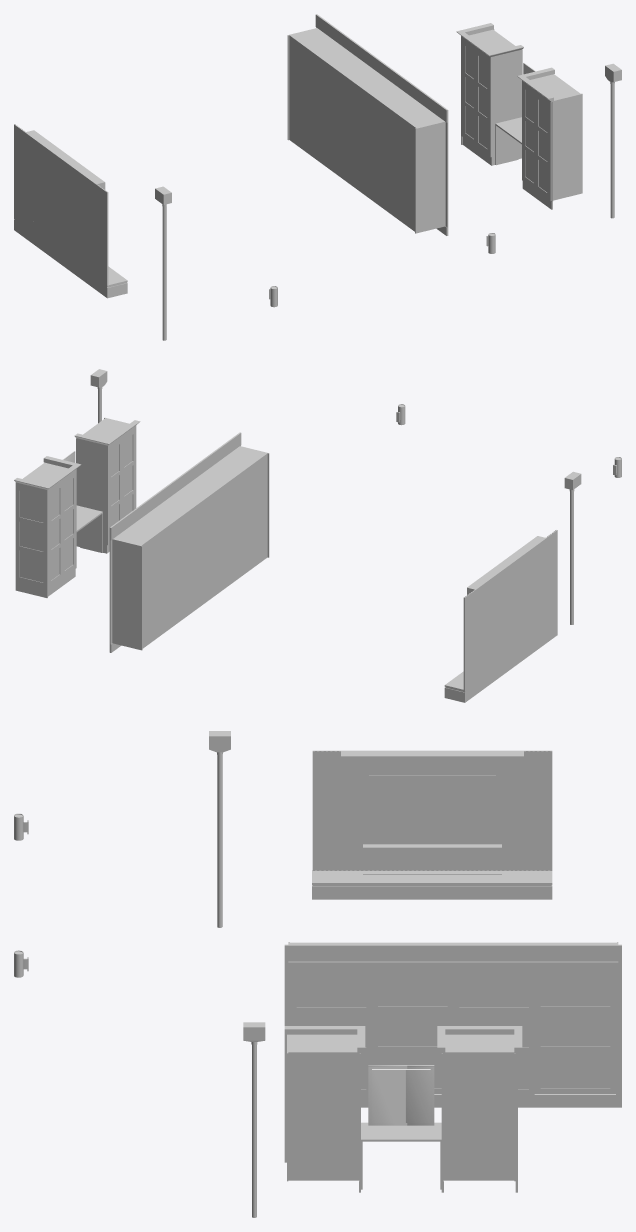
File: PS01__TrueVision__MainBuildingModel__ProposedFixtures__MeshModel__.glb
3 renders of one model, top to bottom at view 1: azimuth 30°, elevation 25°; view 2: azimuth 150°, elevation 25°; view 3: azimuth 270°, elevation 25°, orthographic. The views are drawn at different scales.
Parts seen in each view (by area): view 1: 27__ProposedBuilding__Fixtures::Default; view 2: 27__ProposedBuilding__Fixtures::Default; view 3: 27__ProposedBuilding__Fixtures::Default, 27__ProposedBuilding__Fixtures::MAT140__Mirror__ClearDefault.
Boxes of the visible parts, x1=… form: 27__ProposedBuilding__Fixtures::Default: x1=14, y1=14, x2=621, y2=340; 27__ProposedBuilding__Fixtures::Default: x1=14, y1=369, x2=621, y2=702; 27__ProposedBuilding__Fixtures::Default: x1=14, y1=731, x2=621, y2=1217; 27__ProposedBuilding__Fixtures::MAT140__Mirror__ClearDefault: x1=368, y1=1065, x2=434, y2=1125.
Size of the model in its own units: 9.9 by 2.9 by 8.29.
2 materials, 1 textured.
